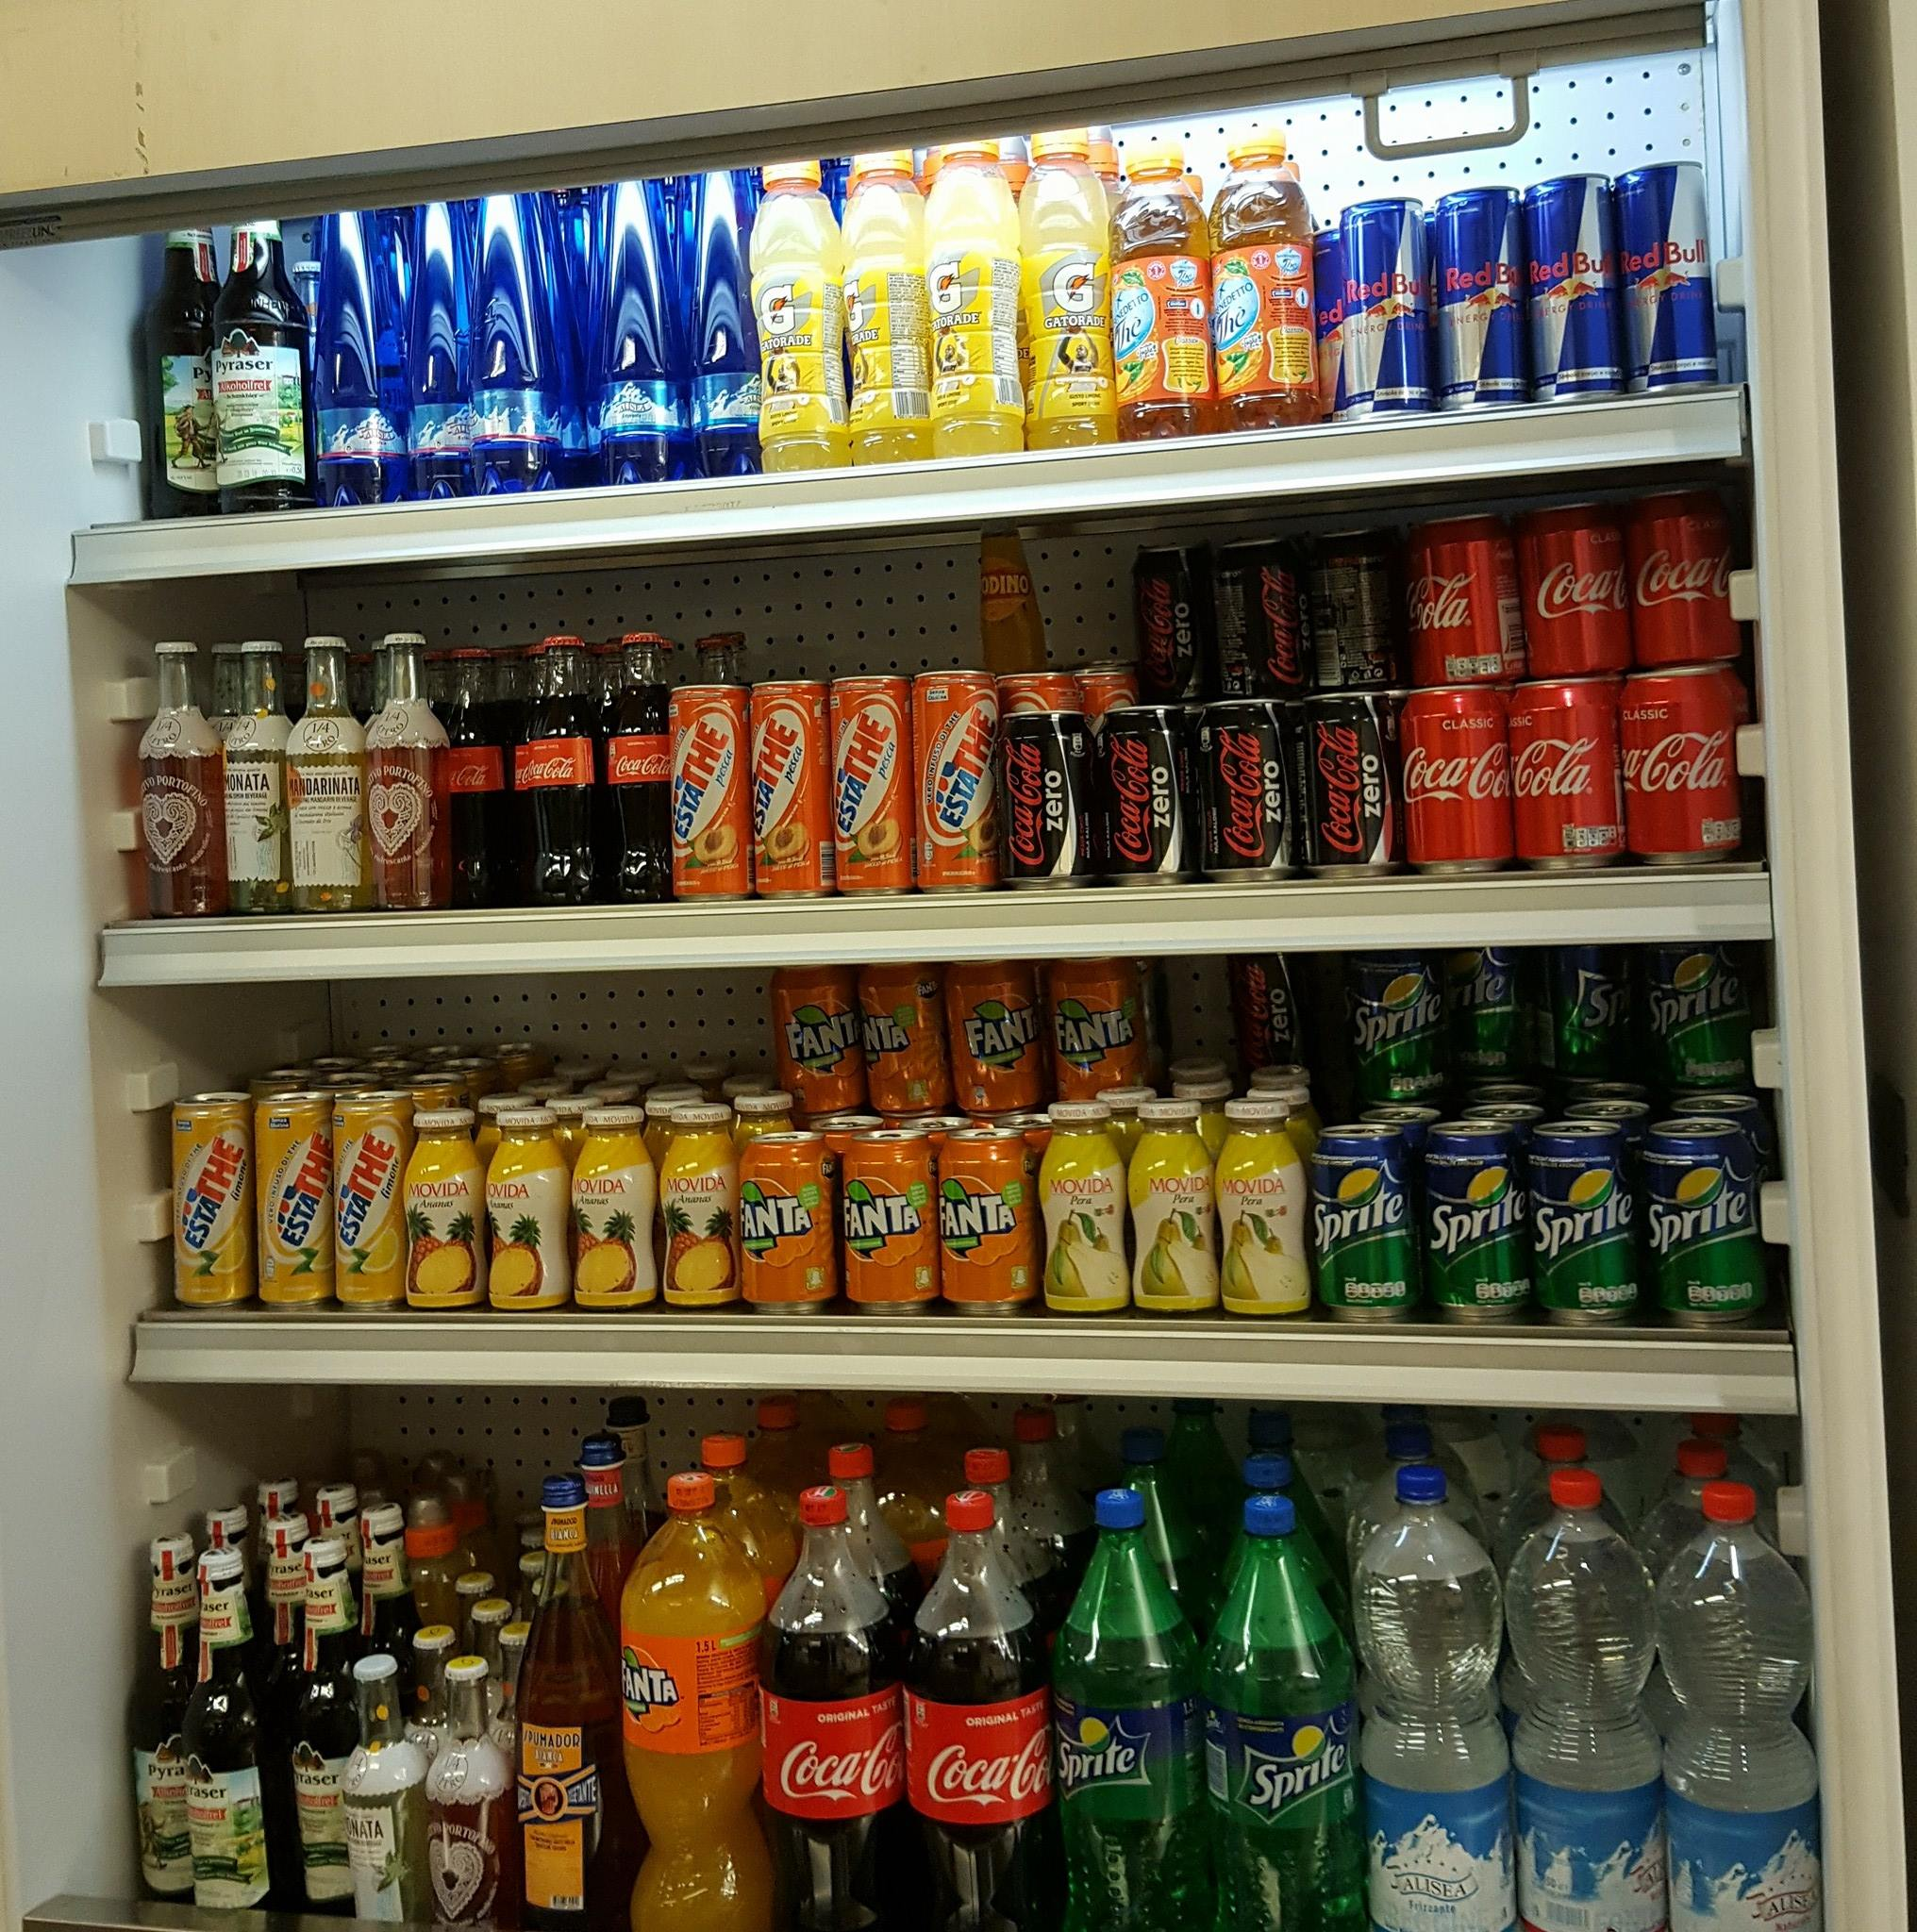alisea: (1394, 1869, 1475, 1906), (613, 400, 653, 412)
cocacola: (1313, 714, 1366, 858), (1218, 721, 1264, 863), (999, 733, 1046, 867), (1111, 728, 1153, 869), (616, 755, 667, 781), (527, 758, 578, 783)
estathe: (936, 709, 995, 830), (181, 1137, 242, 1248), (337, 1132, 395, 1248), (836, 709, 890, 832), (672, 718, 727, 839), (753, 721, 799, 835)
fanta: (739, 1186, 815, 1244), (1052, 1009, 1138, 1056), (843, 1190, 922, 1239), (939, 1190, 1018, 1239)
gatorade: (1052, 260, 1099, 312), (758, 283, 801, 335), (927, 260, 967, 314)
pyraser: (214, 330, 272, 377)
redbull: (1617, 242, 1710, 293)
sprite: (1529, 1184, 1633, 1267), (1647, 1184, 1752, 1258), (1246, 1741, 1352, 1811), (1315, 1184, 1410, 1258), (1427, 1188, 1526, 1258), (1055, 1727, 1148, 1797), (1648, 972, 1747, 1034), (1352, 988, 1443, 1053)
